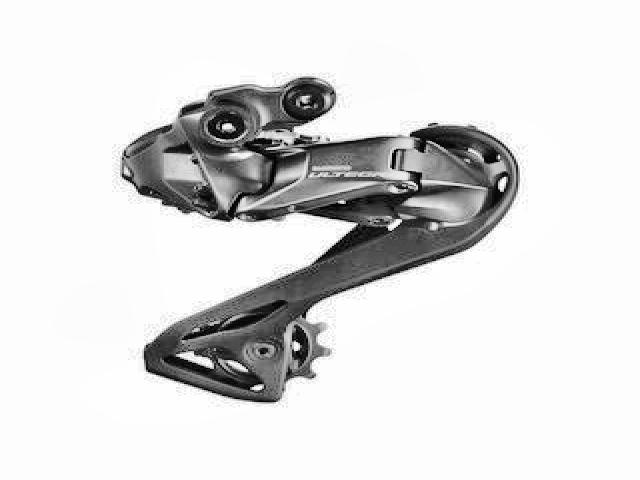rear_derailleur: (113, 74, 521, 404)
